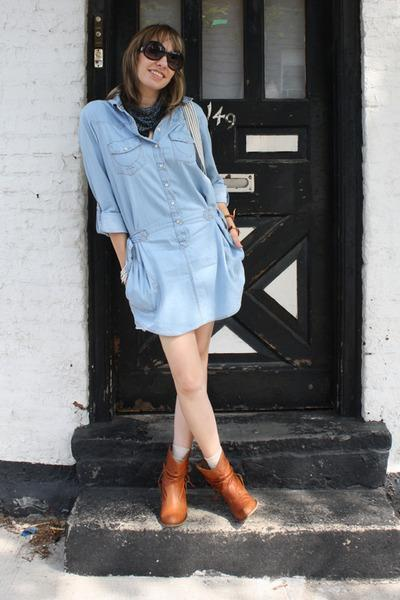dress: (72, 94, 244, 336)
shoe: (162, 449, 251, 512)
sunglass: (144, 39, 178, 68)
